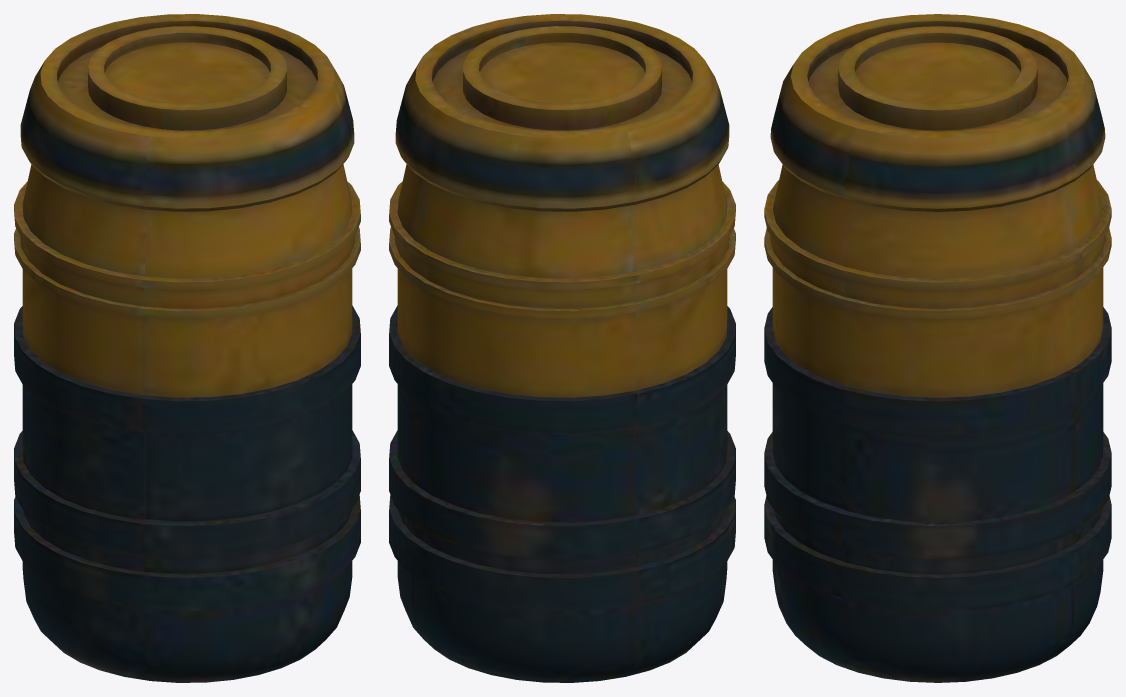
The model's file is SM_crate_05.glb.
3 views of the same model, side by side, from view 1: azimuth 30°, elevation 25°; view 2: azimuth 150°, elevation 25°; view 3: azimuth 270°, elevation 25° (orthographic).
Visible parts, largest first — view 1: SM_crate_05; view 2: SM_crate_05; view 3: SM_crate_05.
Boxes of the visible parts, <box> form: SM_crate_05: <box>14,14,360,682</box>; SM_crate_05: <box>389,14,735,682</box>; SM_crate_05: <box>764,14,1111,682</box>.
Bounding box in the file's own units: 0.6817 × 1.21 × 0.6817.
Materials: 1 (1 with a texture image).
